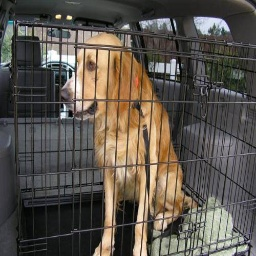dog: (59, 25, 200, 253)
